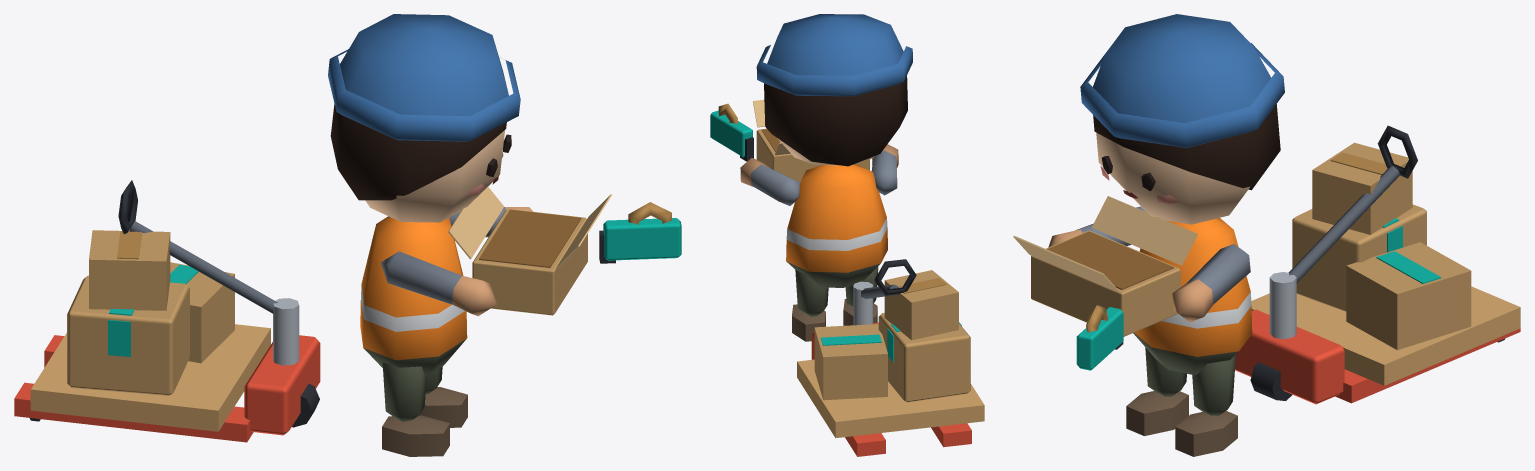
Rendered from station_processing_ausstattung_2_2.glb.
The picture shows the model from 3 angles, left to right: view 1: azimuth 30°, elevation 25°; view 2: azimuth 150°, elevation 25°; view 3: azimuth 270°, elevation 25°; orthographic projection. The views are drawn at different scales.
Visible parts, largest first — view 1: station_processing_ausstattung_2_2; view 2: station_processing_ausstattung_2_2; view 3: station_processing_ausstattung_2_2.
Part boxes in pixels (<box>): station_processing_ausstattung_2_2: <box>14,14,681,456</box>; station_processing_ausstattung_2_2: <box>710,14,984,456</box>; station_processing_ausstattung_2_2: <box>1013,14,1520,456</box>.
Bounding box in the file's own units: 1.5 × 1.15 × 1.31.
